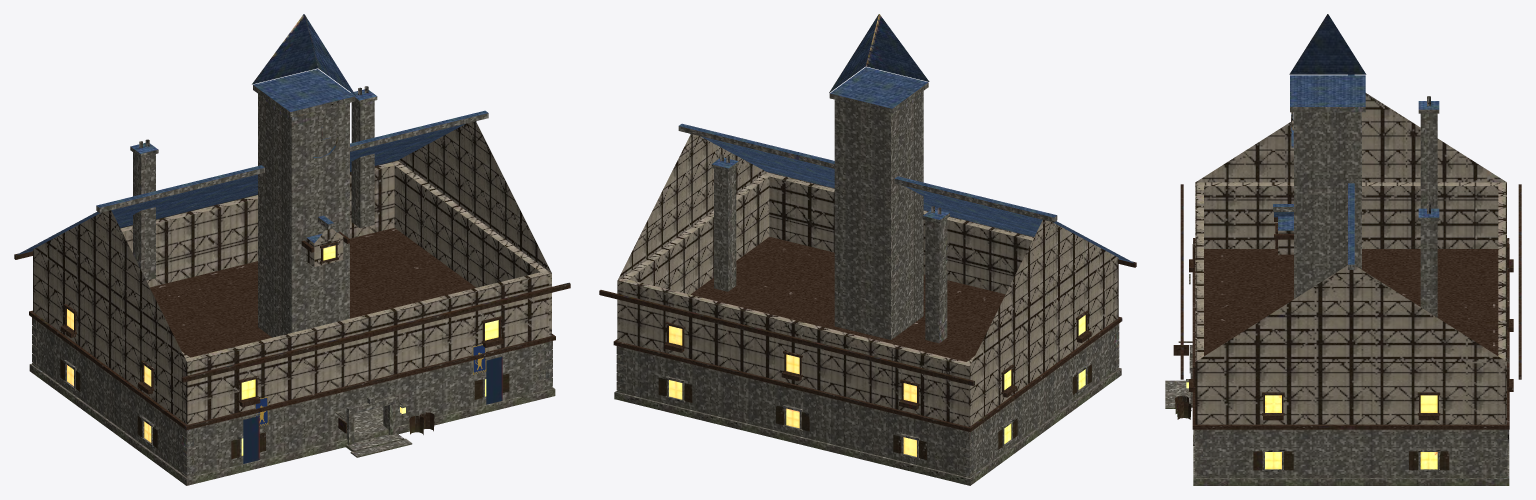
The model's file is bld_guildhall_card_lod1.glb.
3 renders of one model, left to right at view 1: azimuth 30°, elevation 25°; view 2: azimuth 150°, elevation 25°; view 3: azimuth 270°, elevation 25°, orthographic. The views are drawn at different scales.
Parts seen in each view (by area): view 1: guildhall_card; view 2: guildhall_card; view 3: guildhall_card.
Part boxes in pixels (box(x1,y1,x2,y2)): guildhall_card: box(14, 14, 570, 485); guildhall_card: box(599, 14, 1136, 485); guildhall_card: box(1165, 14, 1521, 485).
Size of the model in its own units: 40.8 by 37.87 by 32.1.
1 material, 1 textured.
